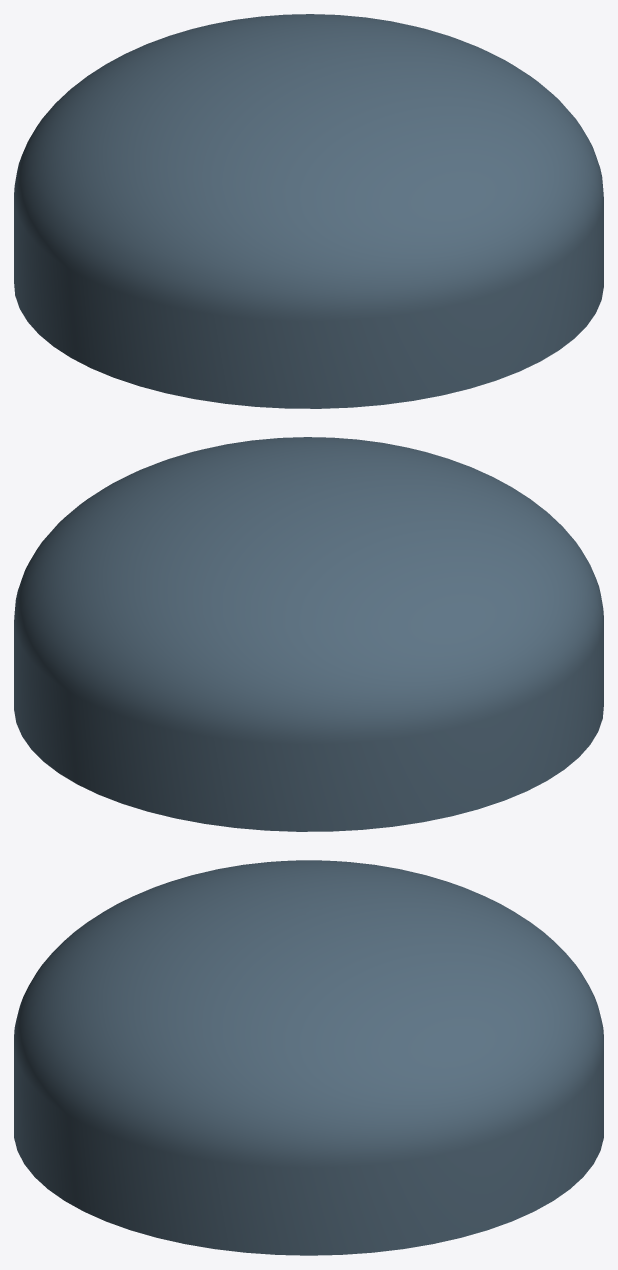
File: zaglushka-133x4-H55.glb
3 views of the same model, one above another, from view 1: azimuth 30°, elevation 25°; view 2: azimuth 150°, elevation 25°; view 3: azimuth 270°, elevation 25° (orthographic).
Parts seen in each view (by area): view 1: Open CASCADE STEP translator 7.9 9; view 2: Open CASCADE STEP translator 7.9 9; view 3: Open CASCADE STEP translator 7.9 9.
Part boxes in pixels (x1,y1,x2,y2): Open CASCADE STEP translator 7.9 9: [14, 14, 603, 408]; Open CASCADE STEP translator 7.9 9: [14, 437, 603, 831]; Open CASCADE STEP translator 7.9 9: [14, 860, 603, 1255].
Size of the model in its own units: 133 by 55 by 133.
